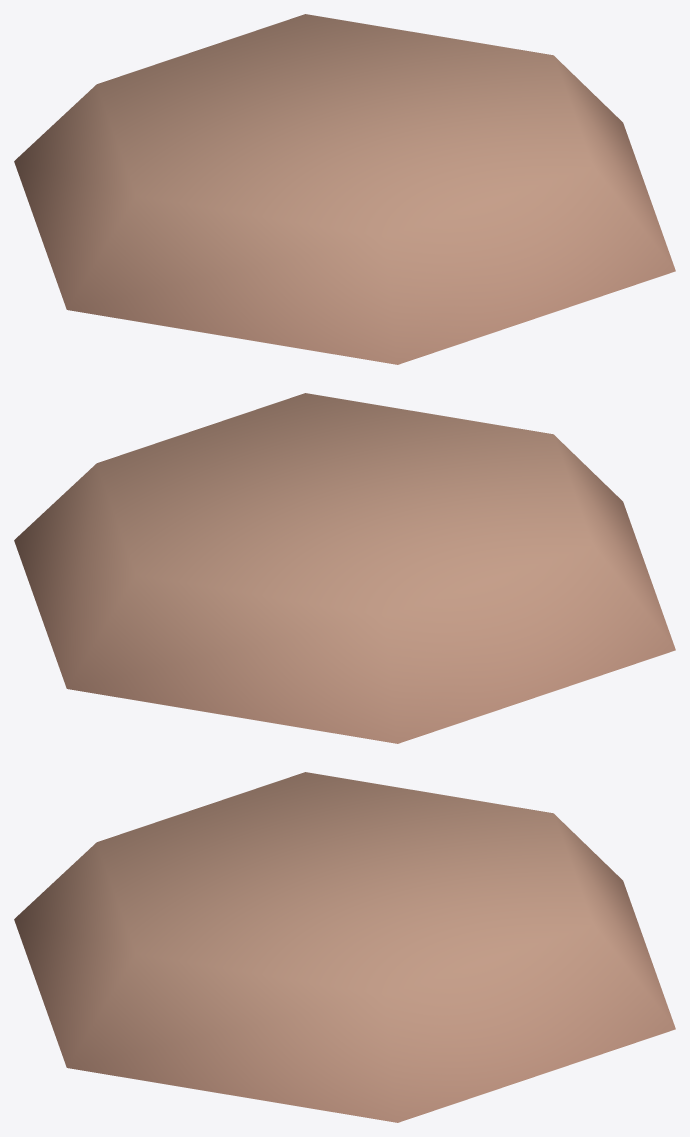
The model's file is (%no-merge) 8.glb.
The picture shows the model from 3 angles, top to bottom: view 1: azimuth 30°, elevation 25°; view 2: azimuth 150°, elevation 25°; view 3: azimuth 270°, elevation 25°; orthographic projection.
Parts seen in each view (by area): view 1: (%no-merge) 8; view 2: (%no-merge) 8; view 3: (%no-merge) 8.
Part boxes in pixels (<box>): (%no-merge) 8: <box>14,14,675,364</box>; (%no-merge) 8: <box>14,393,675,743</box>; (%no-merge) 8: <box>14,772,675,1122</box>.
Bounding box in the file's own units: 0.0702 × 0.01 × 0.0661.
